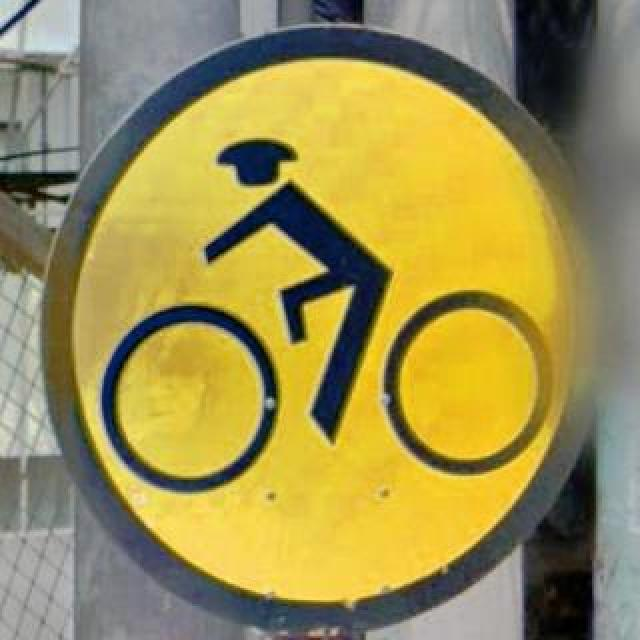bike lane: (36, 22, 596, 622)
